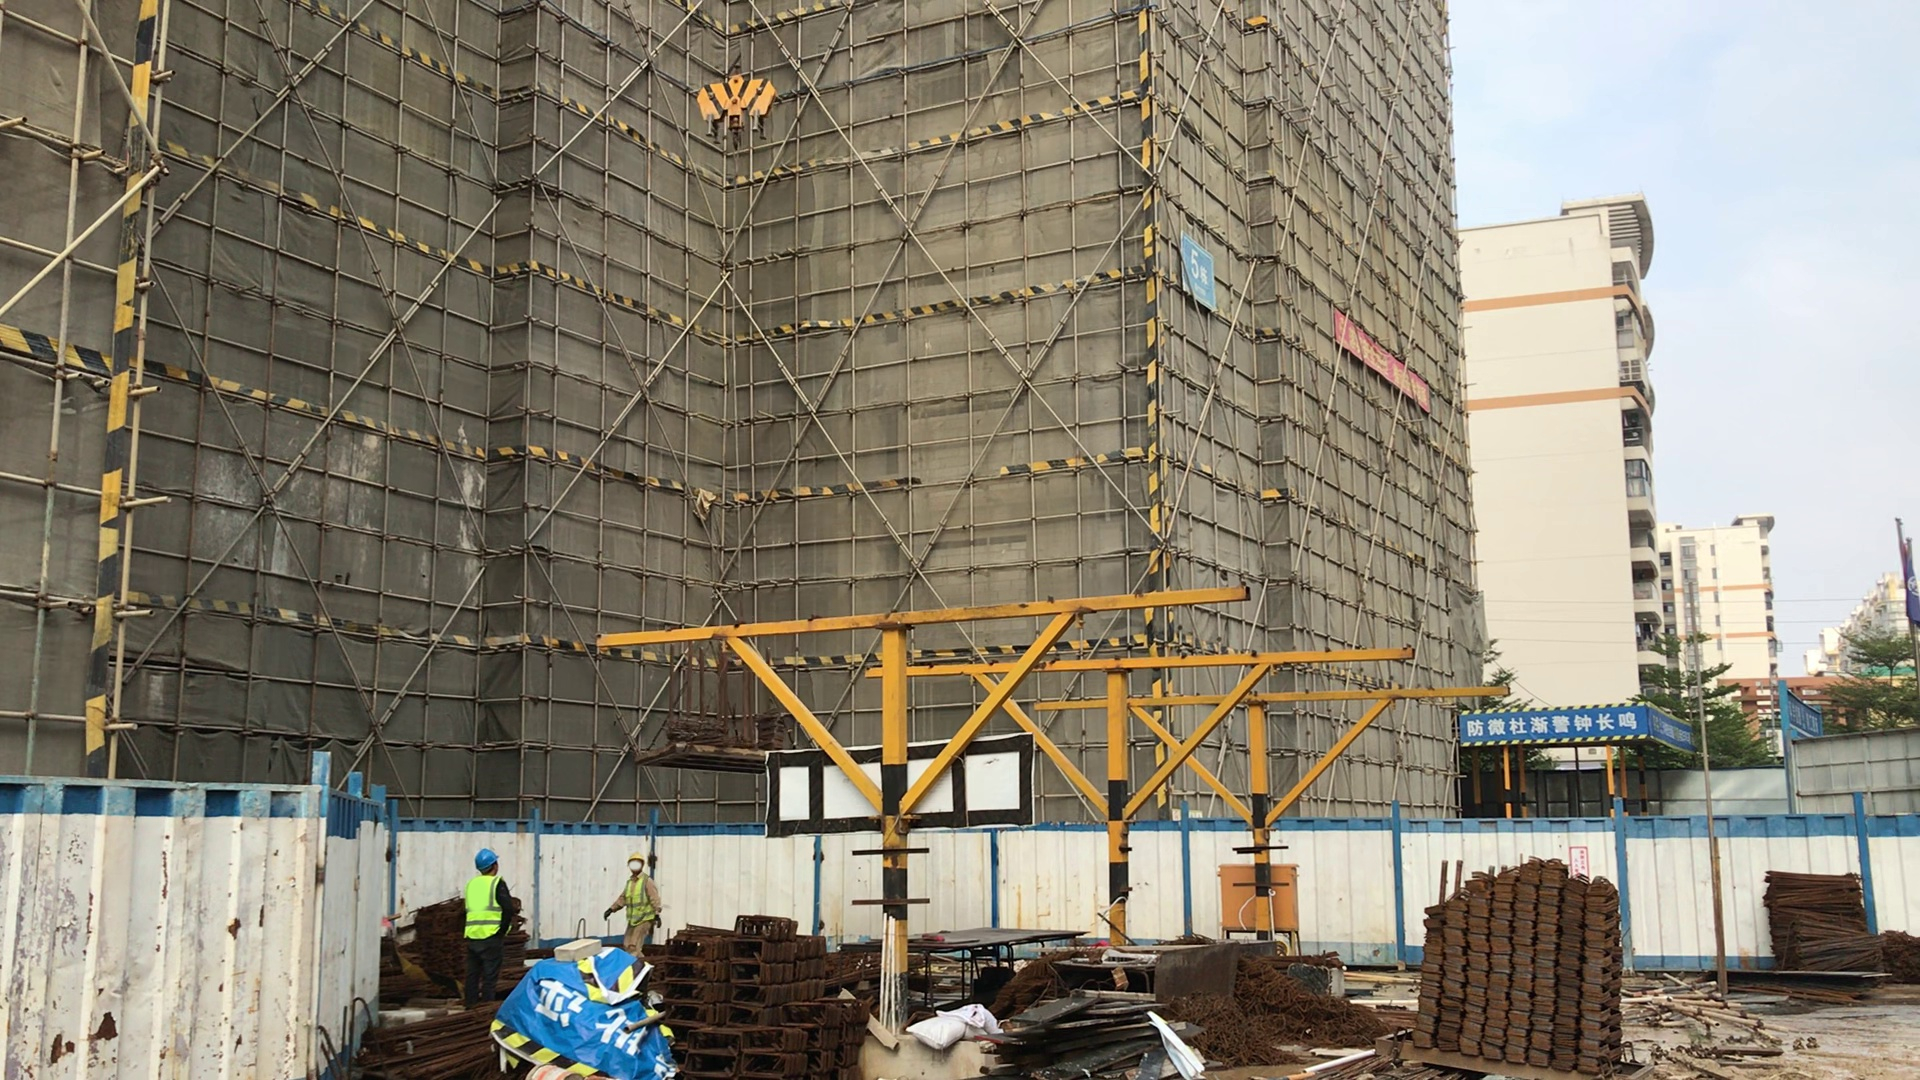helmet: (469, 842, 507, 879)
hook: (682, 63, 780, 146)
person: (449, 832, 529, 979), (619, 843, 656, 965)
slogan: (1329, 295, 1440, 423), (1445, 701, 1707, 753), (1754, 675, 1845, 750), (1171, 216, 1233, 315)
vest: (459, 875, 503, 941), (622, 874, 654, 920)
